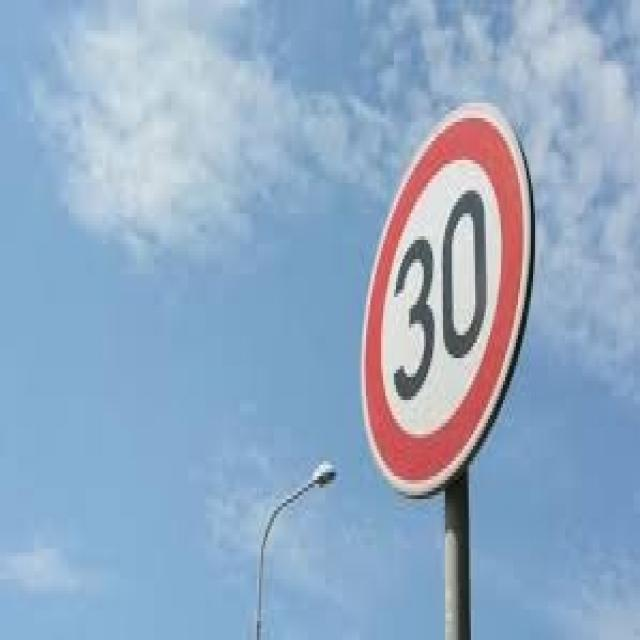speed_limit_30: (352, 95, 550, 502)
